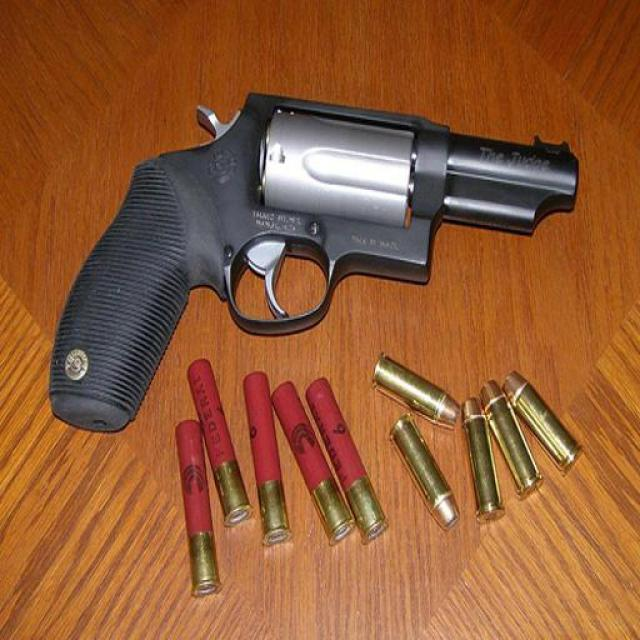pistol: (45, 89, 580, 434)
